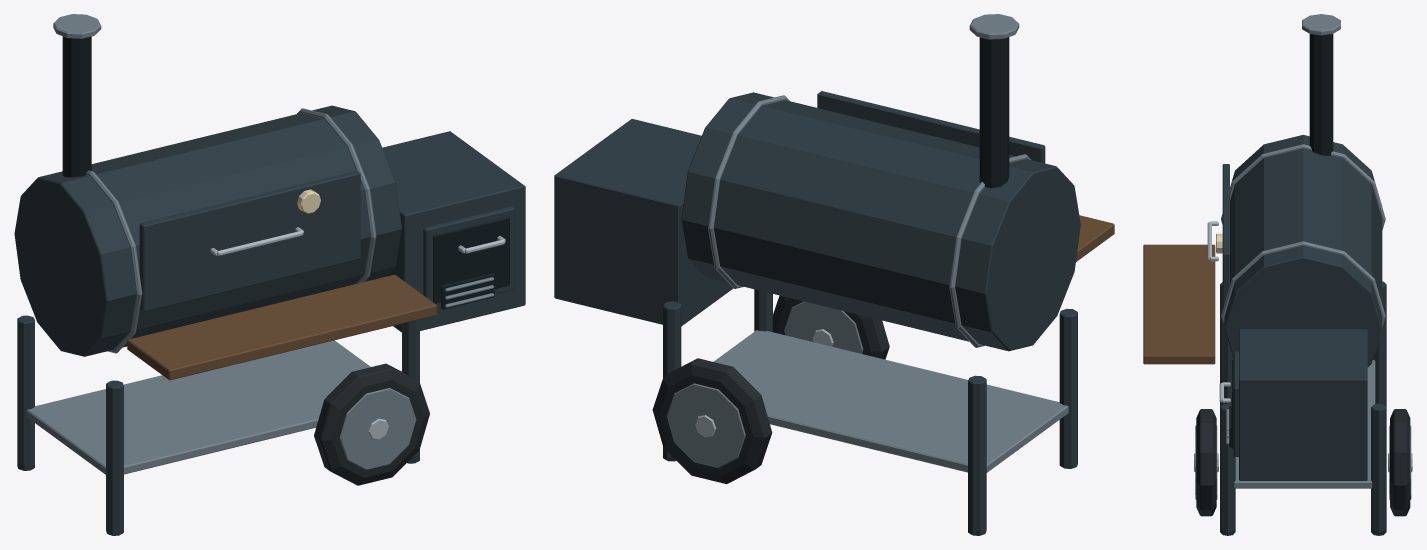
Rendered from b10_commercial_barbecue_smoker_trailer_cart.glb.
3 renders of one model, left to right at view 1: azimuth 30°, elevation 25°; view 2: azimuth 150°, elevation 25°; view 3: azimuth 270°, elevation 25°, orthographic. The views are drawn at different scales.
Visible parts, largest first — view 1: b10_commercial_barbecue_smoker_trailer_cart; view 2: b10_commercial_barbecue_smoker_trailer_cart; view 3: b10_commercial_barbecue_smoker_trailer_cart.
Part boxes in pixels (x1,y1,x2,y2): b10_commercial_barbecue_smoker_trailer_cart: [14, 14, 525, 535]; b10_commercial_barbecue_smoker_trailer_cart: [554, 14, 1114, 535]; b10_commercial_barbecue_smoker_trailer_cart: [1143, 14, 1412, 535].
Size of the model in its own units: 1.87 by 1.93 by 1.2.
